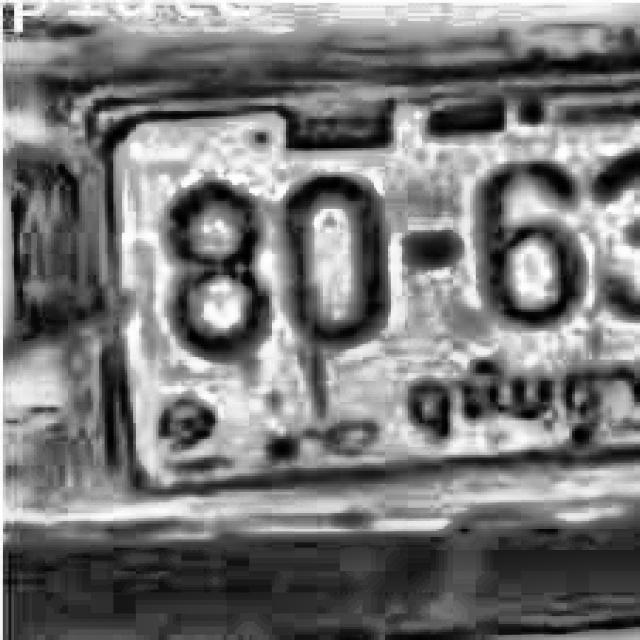license-plate: (88, 69, 640, 480)
